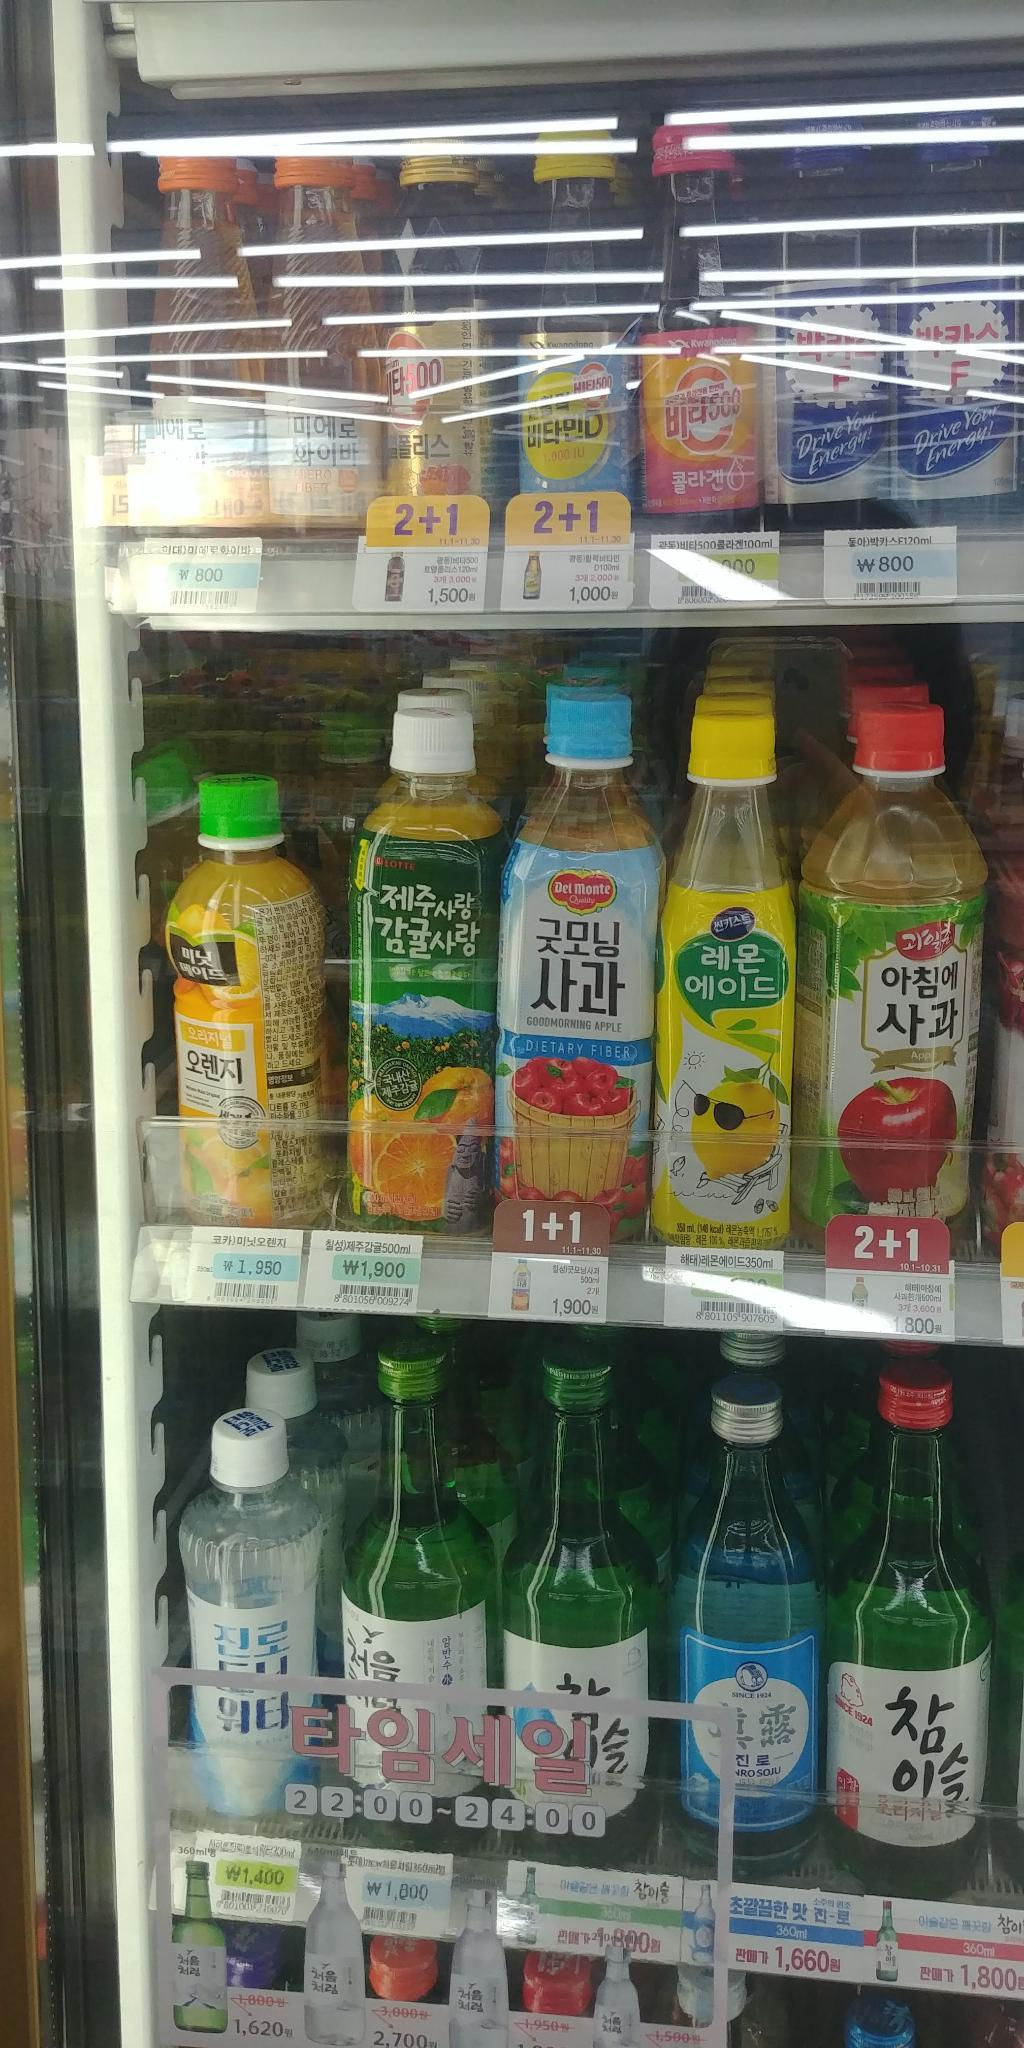minutemaid_org_orange: (152, 755, 354, 1253)
